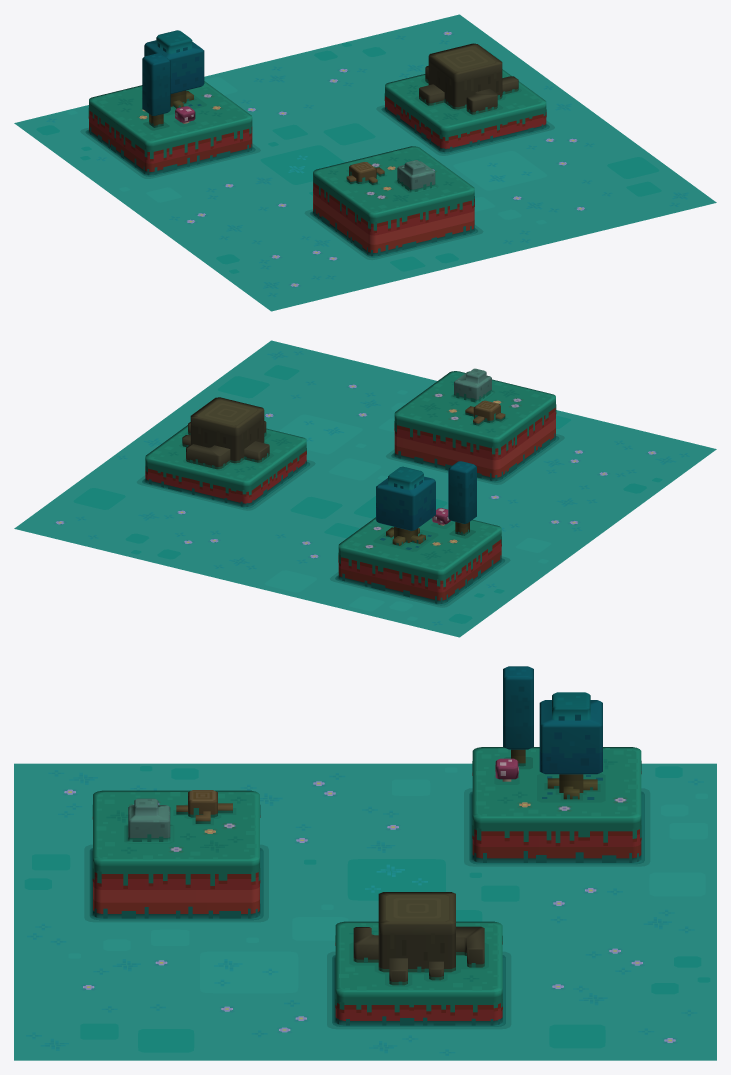
Rendered from C_forest1_06.fbx.
3 views of the same model, one above another, from view 1: azimuth 30°, elevation 25°; view 2: azimuth 150°, elevation 25°; view 3: azimuth 270°, elevation 25° (orthographic). The views are drawn at different scales.
Parts seen in each view (by area): view 1: C_forest1_06; view 2: C_forest1_06; view 3: C_forest1_06.
Part boxes in pixels (left/top/right/bottom): C_forest1_06: left=14, top=14, right=716, bottom=311; C_forest1_06: left=14, top=340, right=716, bottom=637; C_forest1_06: left=14, top=666, right=716, bottom=1060.
Bounding box in the file's own units: 50 × 10.9 × 50.
